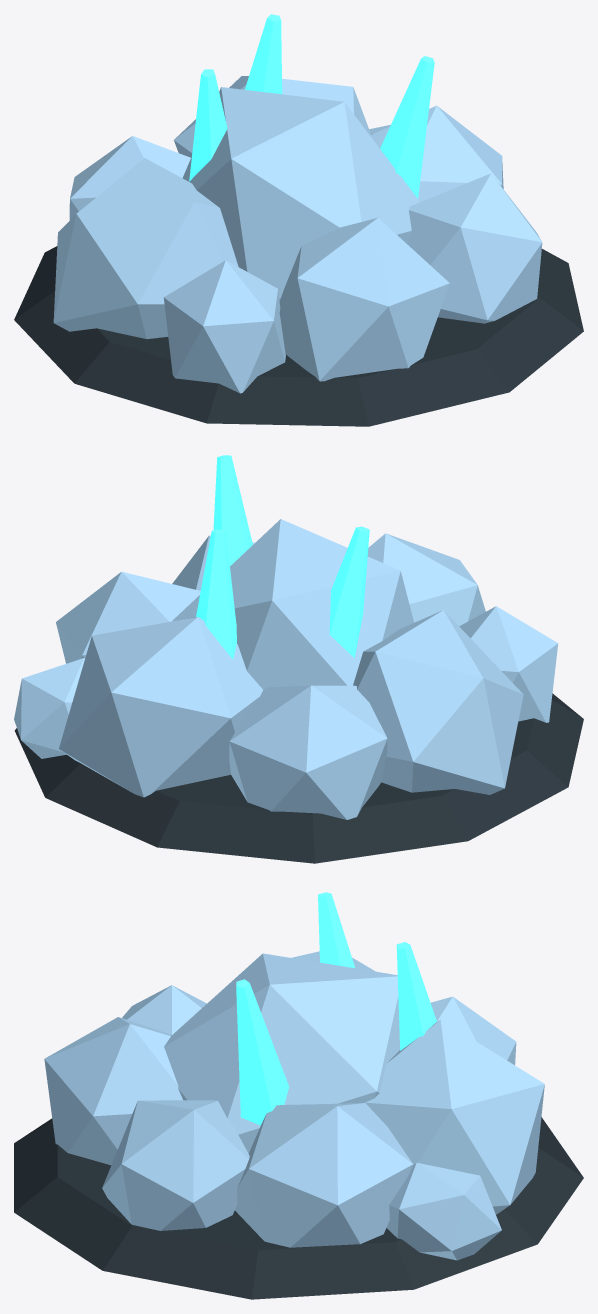
The model's file is ore-node.glb.
The picture shows the model from 3 angles, top to bottom: view 1: azimuth 30°, elevation 25°; view 2: azimuth 150°, elevation 25°; view 3: azimuth 270°, elevation 25°; orthographic projection.
Visible parts, largest first — view 1: exposed broken seam, individual exposed ore crystal.004, individual exposed ore crystal.003, individual exposed ore crystal.001, individual exposed ore crystal.002, individual exposed ore crystal, individual exposed ore crystal.005, raw rare mineral prism.001, individual exposed ore crystal.006, raw rare mineral prism, individual exposed ore crystal.007, raw rare mineral prism.002; view 2: exposed broken seam, individual exposed ore crystal.007, individual exposed ore crystal.003, individual exposed ore crystal.004, individual exposed ore crystal.006, individual exposed ore crystal.005, individual exposed ore crystal, individual exposed ore crystal.001, individual exposed ore crystal.008, raw rare mineral prism, raw rare mineral prism.002, raw rare mineral prism.001 (+1 smaller); view 3: exposed broken seam, individual exposed ore crystal.004, individual exposed ore crystal.007, individual exposed ore crystal.005, individual exposed ore crystal.002, individual exposed ore crystal.001, individual exposed ore crystal.008, raw rare mineral prism.001, raw rare mineral prism.002, individual exposed ore crystal, individual exposed ore crystal.006, raw rare mineral prism.
Boxes of the visible parts, x1,y1,x2,y2 form: exposed broken seam: [14, 246, 583, 426]; individual exposed ore crystal.004: [182, 87, 419, 300]; individual exposed ore crystal.003: [53, 158, 238, 339]; individual exposed ore crystal.001: [279, 218, 449, 381]; individual exposed ore crystal.002: [407, 173, 542, 323]; individual exposed ore crystal: [163, 260, 285, 393]; individual exposed ore crystal.005: [370, 105, 503, 201]; raw rare mineral prism.001: [380, 56, 434, 198]; individual exposed ore crystal.006: [69, 136, 190, 219]; raw rare mineral prism: [189, 69, 227, 181]; individual exposed ore crystal.007: [174, 76, 370, 157]; raw rare mineral prism.002: [244, 14, 282, 94]; exposed broken seam: [14, 693, 583, 863]; individual exposed ore crystal.007: [59, 617, 262, 797]; individual exposed ore crystal.003: [353, 610, 523, 794]; individual exposed ore crystal.004: [172, 519, 413, 689]; individual exposed ore crystal.006: [229, 685, 387, 819]; individual exposed ore crystal.005: [56, 571, 200, 663]; individual exposed ore crystal: [459, 606, 558, 722]; individual exposed ore crystal.001: [367, 533, 485, 626]; individual exposed ore crystal.008: [14, 658, 84, 758]; raw rare mineral prism: [329, 526, 369, 657]; raw rare mineral prism.002: [196, 529, 236, 659]; raw rare mineral prism.001: [213, 455, 252, 565]; exposed broken seam: [14, 1117, 583, 1299]; individual exposed ore crystal.004: [164, 953, 399, 1153]; individual exposed ore crystal.007: [365, 1019, 544, 1214]; individual exposed ore crystal.005: [235, 1103, 413, 1247]; individual exposed ore crystal.002: [102, 1100, 249, 1230]; individual exposed ore crystal.001: [44, 1017, 182, 1165]; individual exposed ore crystal.008: [386, 1163, 501, 1260]; raw rare mineral prism.001: [236, 979, 289, 1125]; raw rare mineral prism.002: [396, 942, 436, 1050]; individual exposed ore crystal: [122, 985, 206, 1034]; individual exposed ore crystal.006: [430, 996, 516, 1065]; raw rare mineral prism: [318, 892, 354, 968].
Size of the model in its own units: 1.9 by 1.03 by 1.88.
